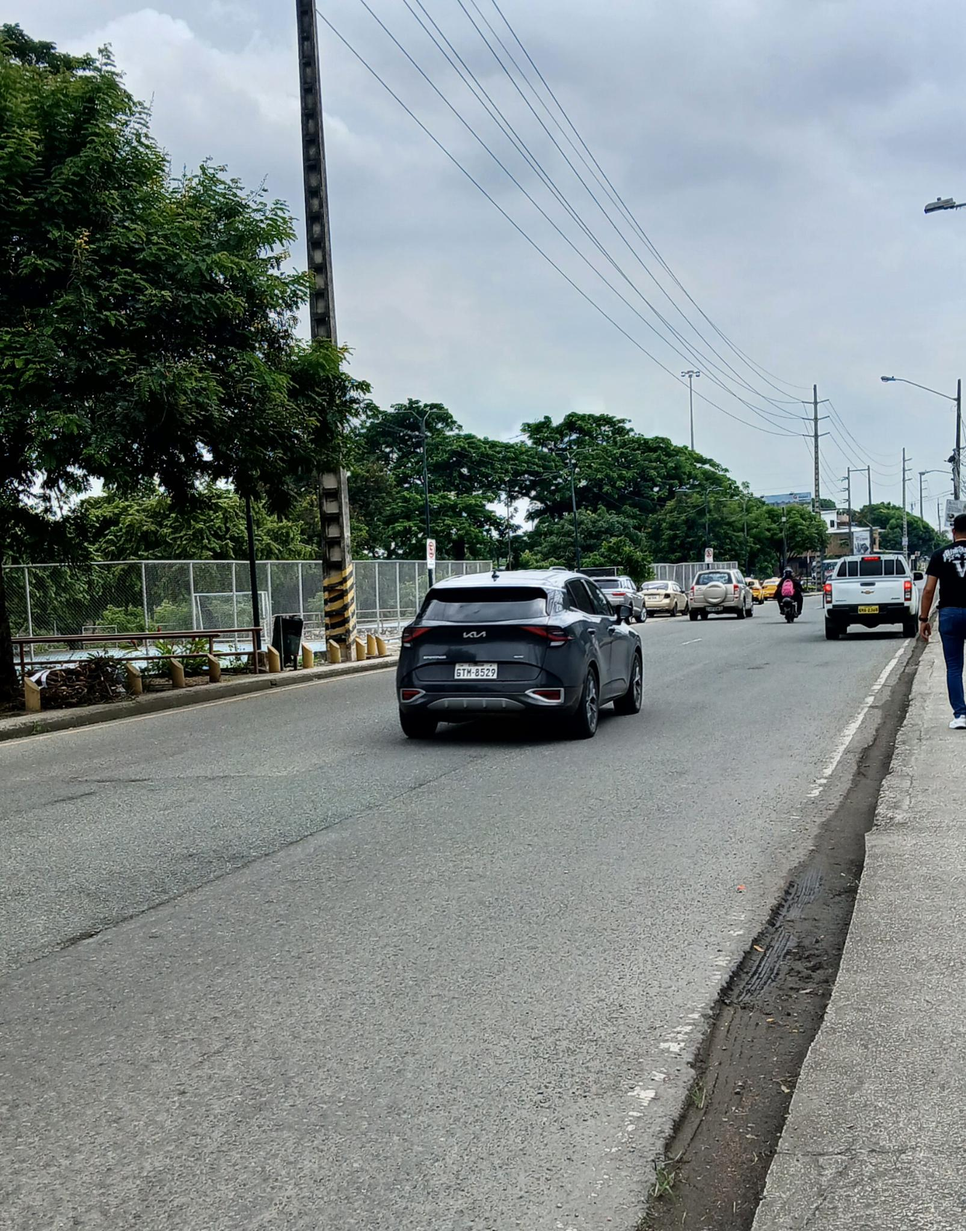license_plate: (453, 664, 497, 680), (856, 605, 879, 613), (706, 605, 725, 613)
